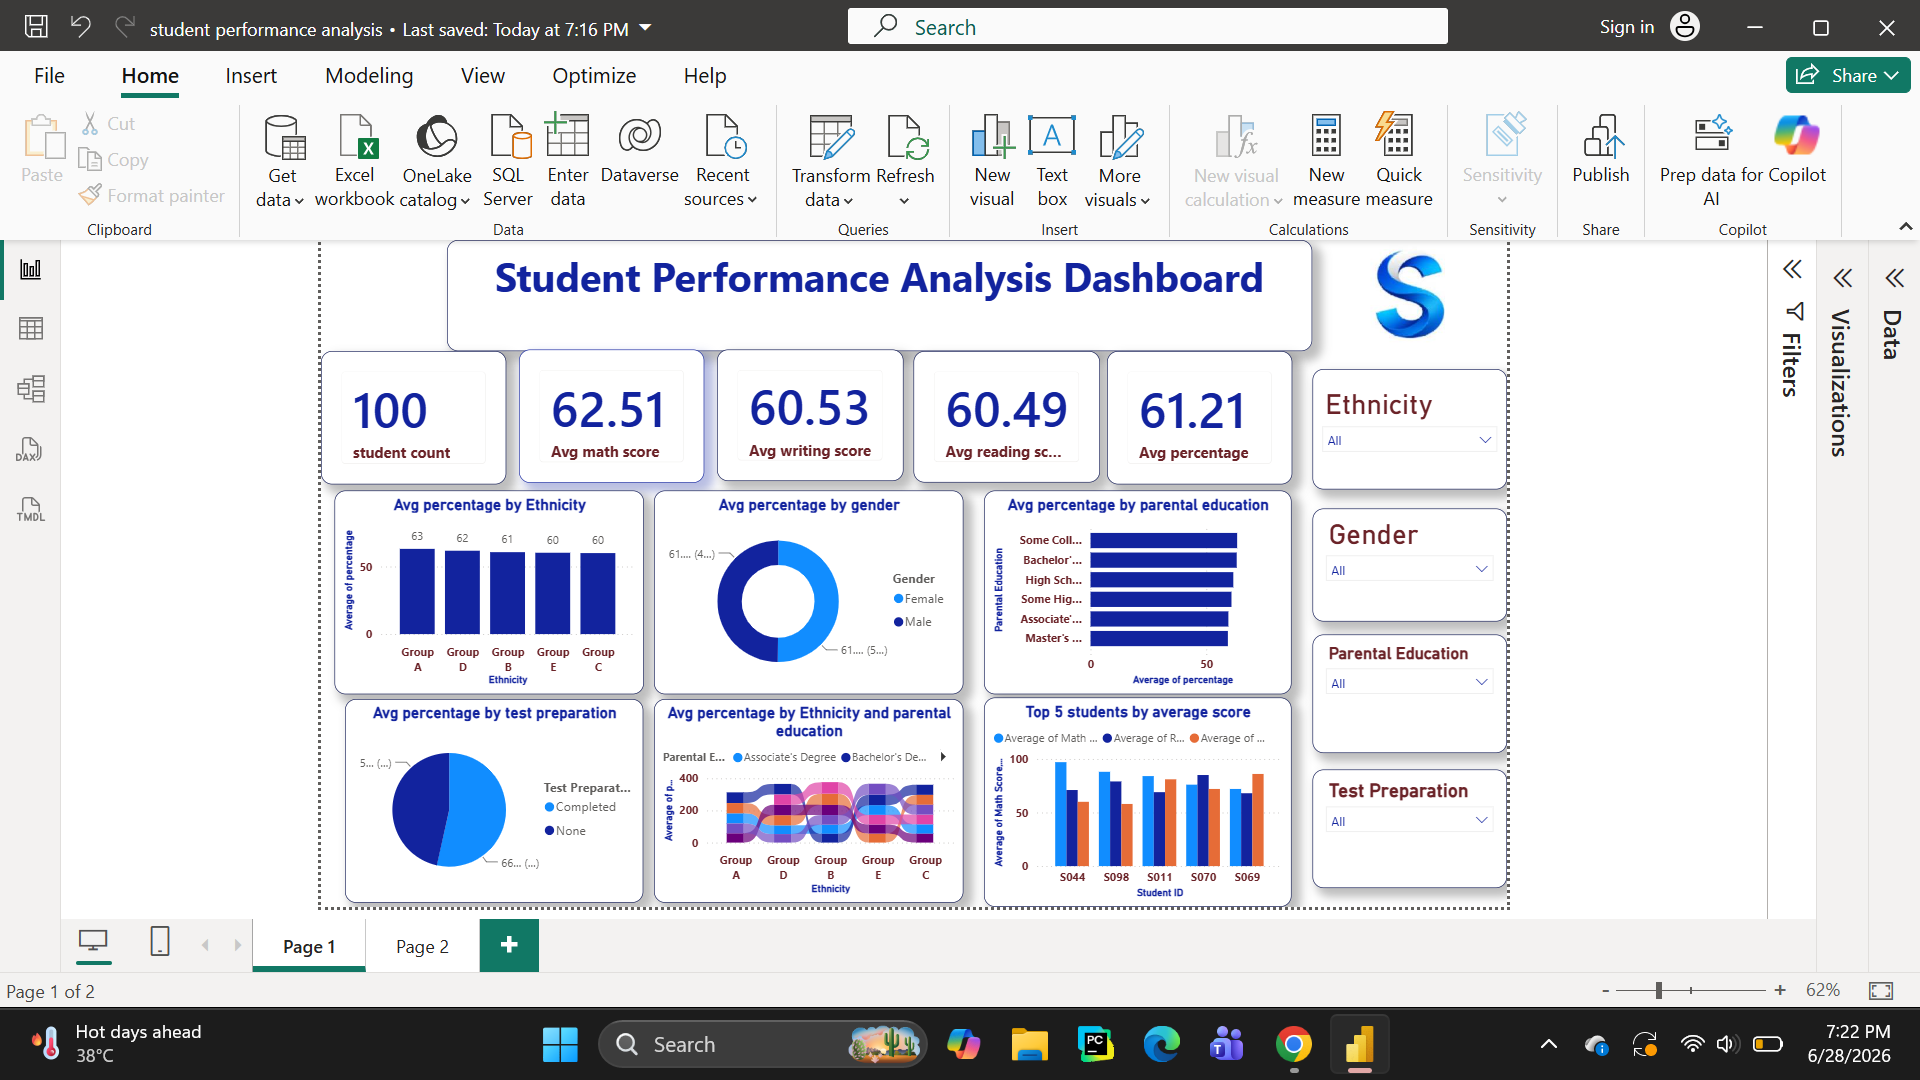

This screenshot's page, from the dashboard's own definition file:
{"tool":"powerbi","page":{"name":"Page 1","canvas":[1280,720],"ordinal":0},"visuals":[{"type":"textbox","box":[136,0,934,120],"z":0},{"type":"cardVisual","fields":{"Data":["Count(marks.Student ID)"]},"box":[0,120,200,144],"z":1000},{"type":"cardVisual","fields":{"Data":["Avg(marks.Math Score)"]},"box":[214,118,200,144],"z":2000},{"type":"cardVisual","fields":{"Data":["Avg(marks.Writing Score)"]},"box":[428,118,201,142],"z":3000},{"type":"cardVisual","fields":{"Data":["Avg(marks.Reading Score)"]},"box":[640,120,201,142],"z":4000},{"type":"cardVisual","fields":{"Data":["Avg(marks.percentage)"]},"box":[848,120,200,144],"z":5000},{"type":"slicer","fields":{"Values":["marks.Ethnicity"]},"box":[1070,140,210,130],"z":6000},{"type":"slicer","fields":{"Values":["marks.Gender"]},"box":[1070,290,210,122],"z":7000},{"type":"slicer","fields":{"Values":["marks.Parental Education"]},"box":[1070,426,210,128],"z":8000},{"type":"columnChart","title":"Avg percentage by Ethnicity","fields":{"Category":["marks.Ethnicity"],"Y":["Avg(marks.percentage)"]},"box":[14,270,334,220],"z":9000},{"type":"donutChart","title":"Avg percentage by gender","fields":{"Y":["Avg(marks.percentage)"],"Category":["marks.Gender"]},"box":[360,270,334,220],"z":10000},{"type":"clusteredBarChart","title":"Avg percentage by parental education","fields":{"Category":["marks.Parental Education"],"Y":["Avg(marks.percentage)"]},"box":[716,270,332,220],"z":11000},{"type":"pieChart","title":"Avg percentage by test preparation","fields":{"Y":["Avg(marks.percentage)"],"Category":["marks.Test Preparation"]},"box":[26,496,322,220],"z":12000},{"type":"ribbonChart","title":"Avg percentage by Ethnicity and parental education","fields":{"Category":["marks.Ethnicity"],"Y":["Avg(marks.percentage)"],"Series":["marks.Parental Education"]},"box":[360,496,334,220],"z":13000},{"type":"slicer","fields":{"Values":["marks.Test Preparation"]},"box":[1070,572,210,128],"z":14000},{"type":"clusteredColumnChart","title":"Top 5 students by average score","fields":{"Y":["Avg(marks.Math Score)","Avg(marks.Reading Score)","Avg(marks.Writing Score)"],"Category":["marks.Student ID"]},"box":[716,494,332,226],"z":15000},{"type":"image","box":[1074,0,204,118],"z":16000}]}

Visuals, with their boxes on the page's 1280x720 design canvas (x1, y1, x2, y2). These are canvas units, not pixel positions in the 1920x1080 screenshot, which may show the page scaled, cropped or inside an application window:
textbox: BBox(136, 0, 1070, 120)
cardVisual - Count(marks.Student ID): BBox(0, 120, 200, 264)
cardVisual - Avg(marks.Math Score): BBox(214, 118, 414, 262)
cardVisual - Avg(marks.Writing Score): BBox(428, 118, 629, 260)
cardVisual - Avg(marks.Reading Score): BBox(640, 120, 841, 262)
cardVisual - Avg(marks.percentage): BBox(848, 120, 1048, 264)
slicer - marks.Ethnicity: BBox(1070, 140, 1280, 270)
slicer - marks.Gender: BBox(1070, 290, 1280, 412)
slicer - marks.Parental Education: BBox(1070, 426, 1280, 554)
"Avg percentage by Ethnicity" columnChart: BBox(14, 270, 348, 490)
"Avg percentage by gender" donutChart: BBox(360, 270, 694, 490)
"Avg percentage by parental education" clusteredBarChart: BBox(716, 270, 1048, 490)
"Avg percentage by test preparation" pieChart: BBox(26, 496, 348, 716)
"Avg percentage by Ethnicity and parental education" ribbonChart: BBox(360, 496, 694, 716)
slicer - marks.Test Preparation: BBox(1070, 572, 1280, 700)
"Top 5 students by average score" clusteredColumnChart: BBox(716, 494, 1048, 720)
image: BBox(1074, 0, 1278, 118)
